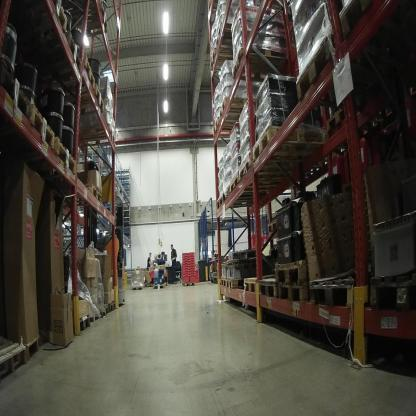forklift: (81, 184, 128, 314)
pallet: (293, 33, 400, 114), (338, 1, 414, 68), (250, 121, 330, 170), (21, 24, 82, 82), (4, 101, 61, 152), (11, 137, 80, 176), (240, 153, 324, 184), (7, 0, 69, 40), (232, 42, 288, 83), (53, 51, 96, 95), (62, 1, 111, 38), (2, 60, 31, 120), (369, 269, 412, 306), (311, 277, 356, 310), (1, 333, 28, 384), (65, 82, 104, 114), (275, 258, 311, 291), (72, 125, 117, 149), (229, 174, 279, 195), (220, 95, 257, 123), (224, 186, 272, 205), (209, 45, 238, 75), (212, 114, 248, 137), (279, 281, 311, 305), (21, 330, 43, 364), (215, 23, 243, 49), (215, 197, 258, 209), (83, 183, 105, 202), (257, 280, 278, 297), (243, 275, 259, 297), (71, 315, 92, 331), (90, 303, 108, 320), (225, 277, 245, 291), (87, 311, 99, 329), (104, 300, 116, 315), (130, 283, 146, 292), (182, 279, 196, 287), (153, 282, 167, 290), (142, 282, 154, 290), (220, 277, 227, 288)
